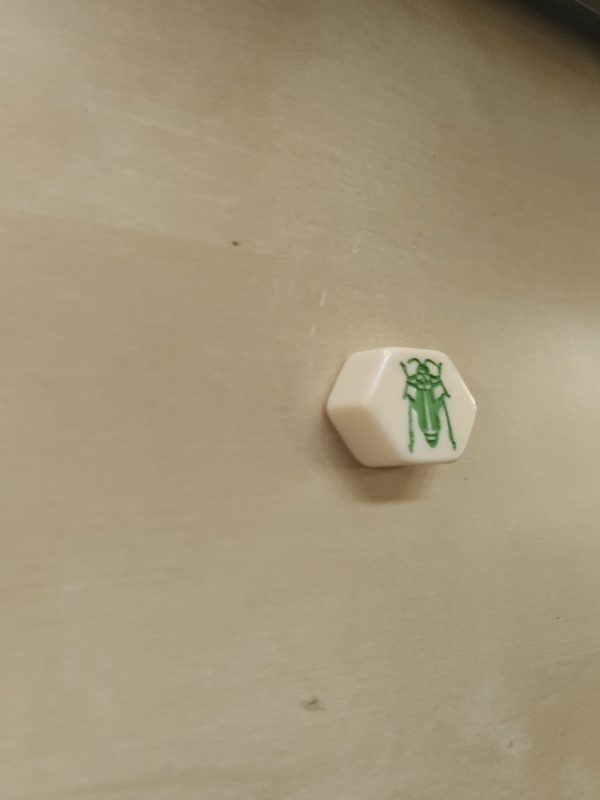white_grasshopper: (331, 346, 484, 473)
